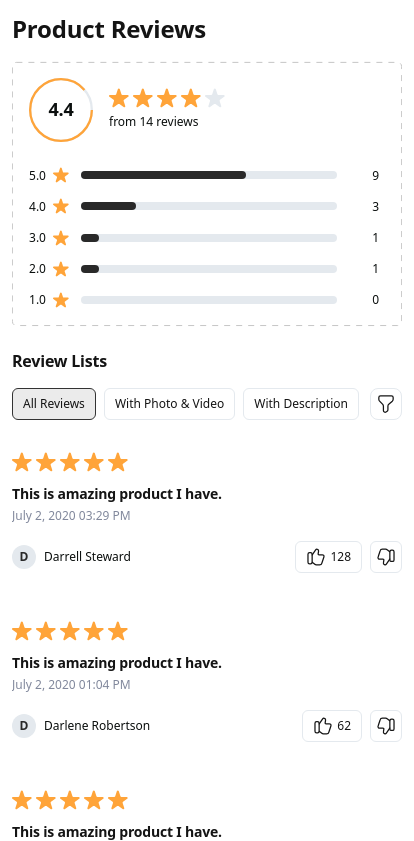
Test case: ProductReviews › opens the mobile filters from the funnel button
Step 1. Click the button named "Filter reviews" → coordinates (386, 404), box [370,388,402,420]
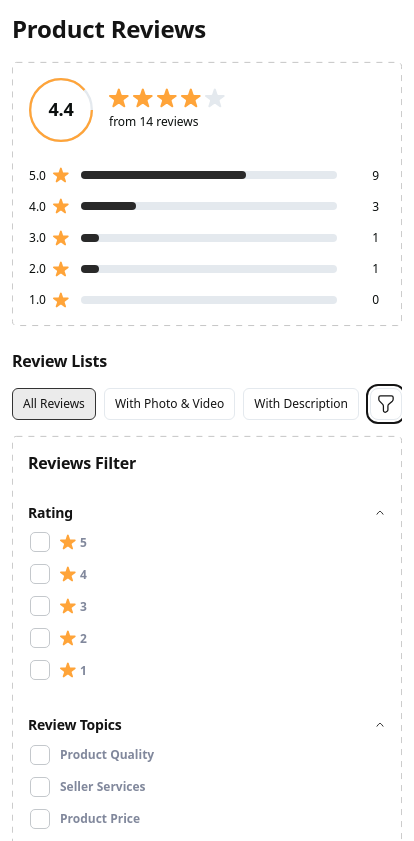
Expected: the number of elements "Reviews filter" is 2
